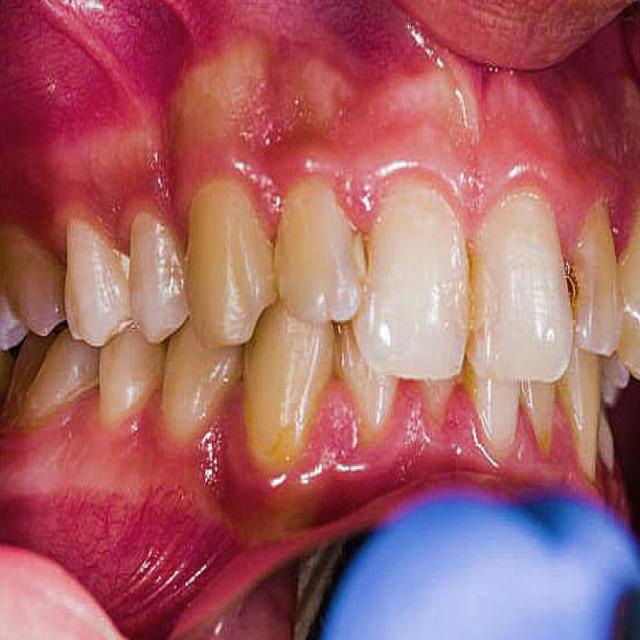caries: (445, 257, 507, 343), (556, 257, 590, 321), (337, 226, 373, 286)
